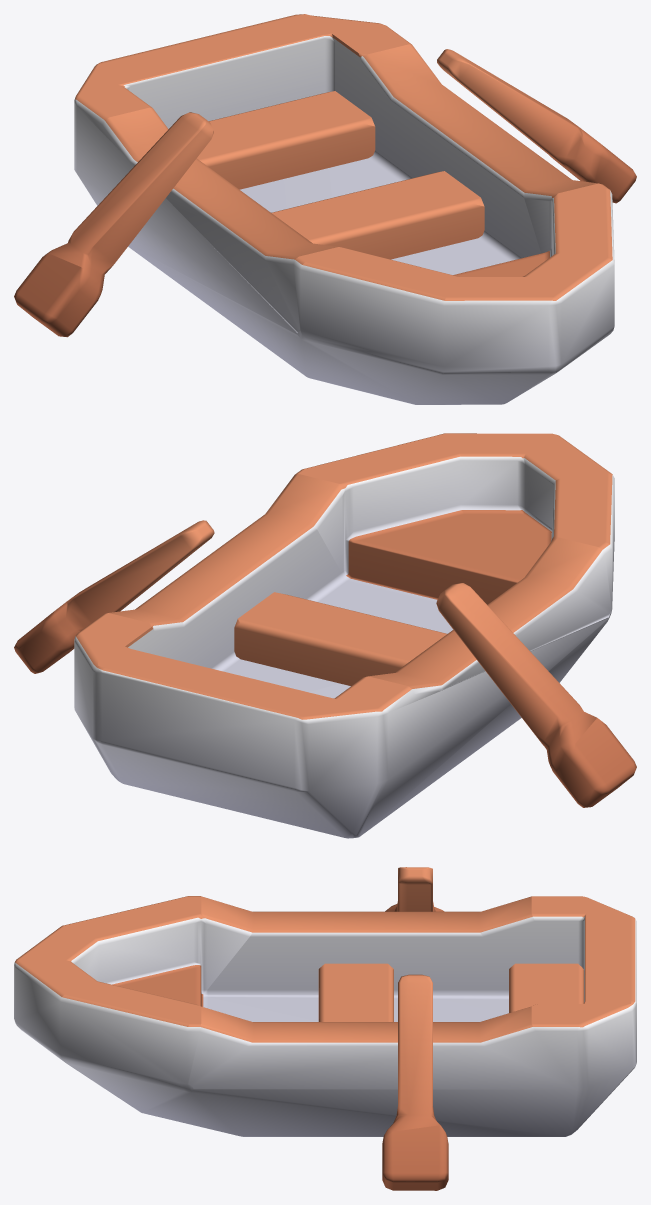
Rendered from boat-row-large.glb.
3 renders of one model, top to bottom at view 1: azimuth 30°, elevation 25°; view 2: azimuth 150°, elevation 25°; view 3: azimuth 270°, elevation 25°, orthographic. The views are drawn at different scales.
Parts seen in each view (by area): view 1: boat-row-large, paddles; view 2: boat-row-large, paddles; view 3: boat-row-large, paddles.
Boxes of the visible parts, x1=… form: boat-row-large: x1=74, y1=14, x2=614, y2=404; paddles: x1=14, y1=49, x2=636, y2=337; boat-row-large: x1=74, y1=433, x2=614, y2=838; paddles: x1=14, y1=520, x2=636, y2=807; boat-row-large: x1=14, y1=896, x2=636, y2=1136; paddles: x1=382, y1=867, x2=448, y2=1190.
Bounding box in the file's own units: 2.72 × 0.8324 × 2.84.
1 material, 1 textured.
